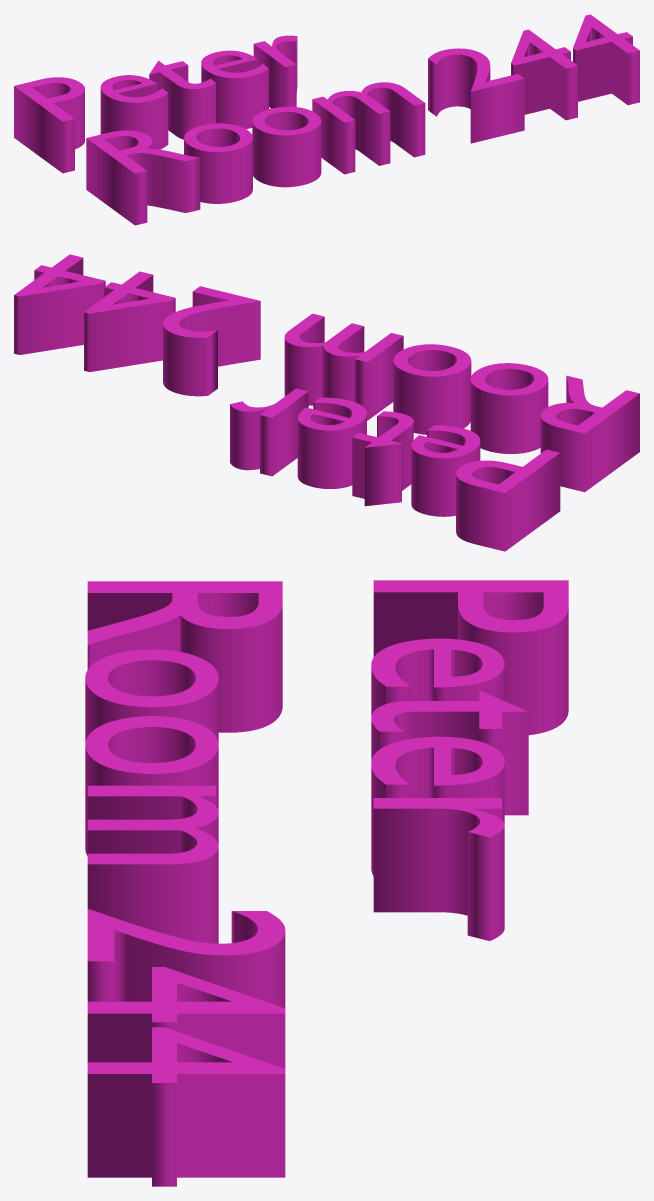
The model's file is peter-244.gltf.
The picture shows the model from 3 angles, top to bottom: view 1: azimuth 30°, elevation 25°; view 2: azimuth 150°, elevation 25°; view 3: azimuth 270°, elevation 25°; orthographic projection. The views are drawn at different scales.
Visible parts, largest first — view 1: Text; view 2: Text; view 3: Text.
Boxes of the visible parts, bbox=[...] form: Text: bbox=[14, 14, 639, 225]; Text: bbox=[14, 254, 639, 551]; Text: bbox=[85, 580, 568, 1186].
Bounding box in the file's own units: 4.16 × 0.4 × 1.69.
